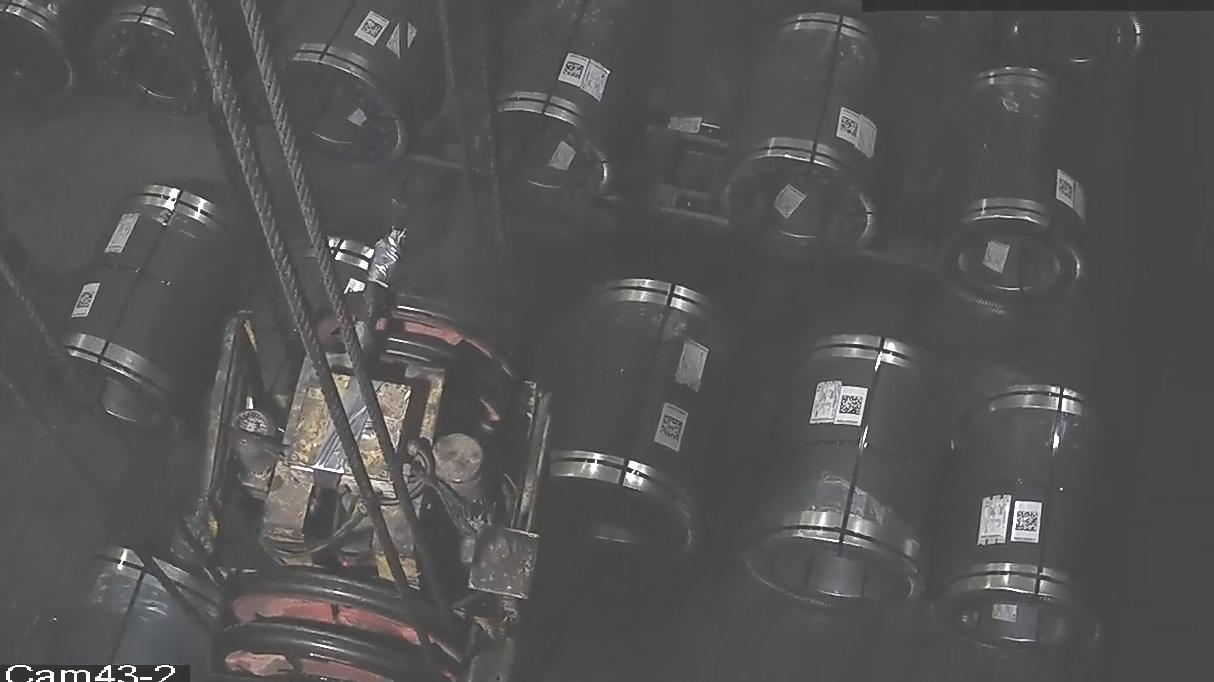data matrix: (658, 413, 688, 444), (838, 393, 867, 418), (1014, 509, 1041, 534), (560, 58, 588, 82), (360, 18, 386, 41), (75, 289, 98, 312), (1057, 176, 1077, 202), (840, 115, 861, 139)
